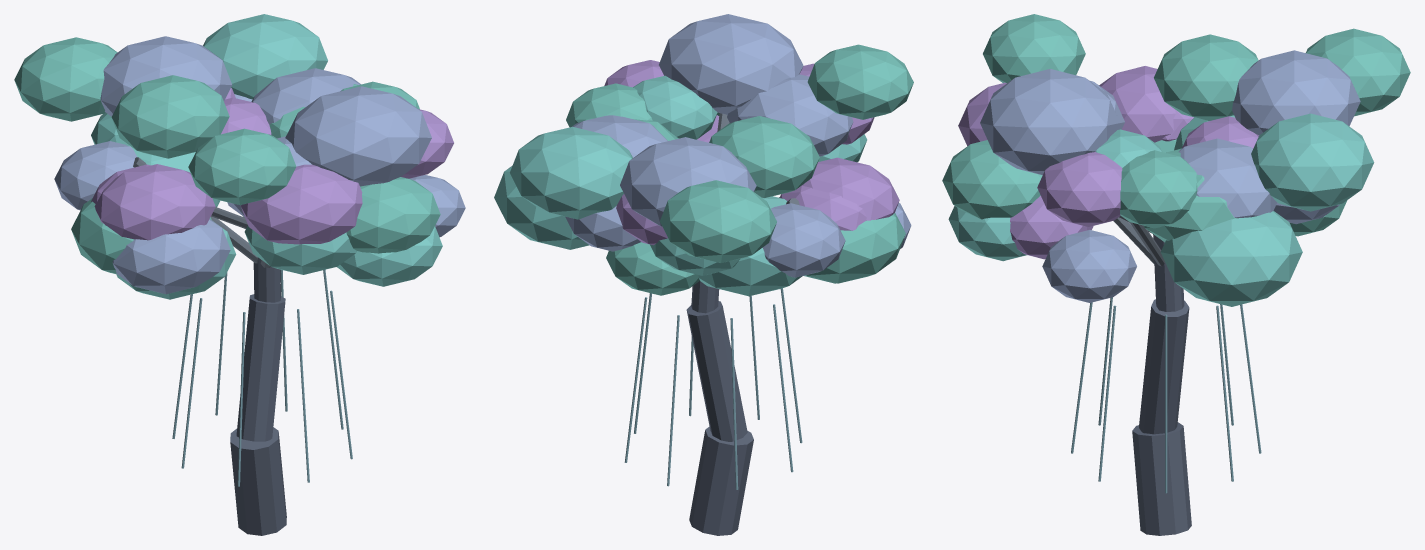
File: hexcore_living_tree_02.glb
The picture shows the model from 3 angles, left to right: view 1: azimuth 30°, elevation 25°; view 2: azimuth 150°, elevation 25°; view 3: azimuth 270°, elevation 25°; orthographic projection. The views are drawn at different scales.
Parts seen in each view (by area): view 1: world; view 2: world; view 3: world.
Part boxes in pixels (x1,y1,x2,y2): world: (14, 14, 465, 535); world: (494, 14, 913, 535); world: (942, 14, 1410, 535).
Bounding box in the file's own units: 20.97 × 25.17 × 22.65.
